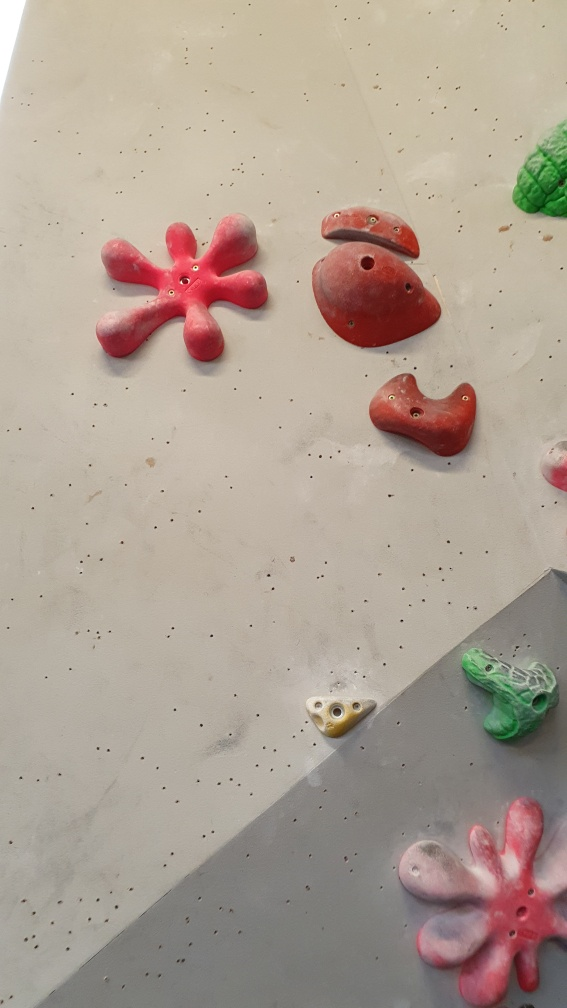Octopus Pinch: (398, 798, 567, 1003), (94, 216, 273, 367)
